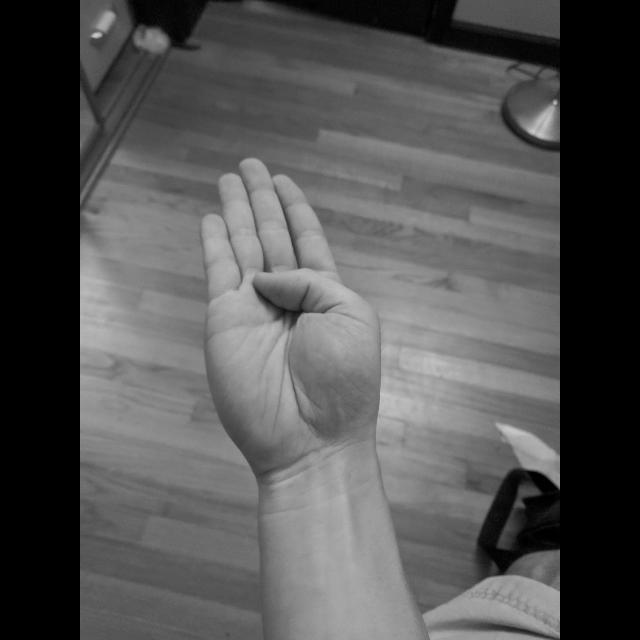B: (195, 151, 391, 497)
